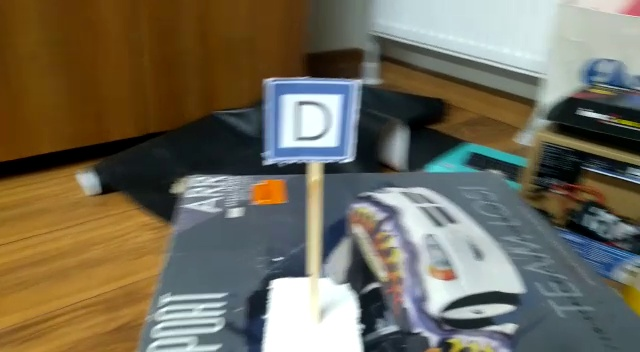durak: (264, 74, 361, 170)
